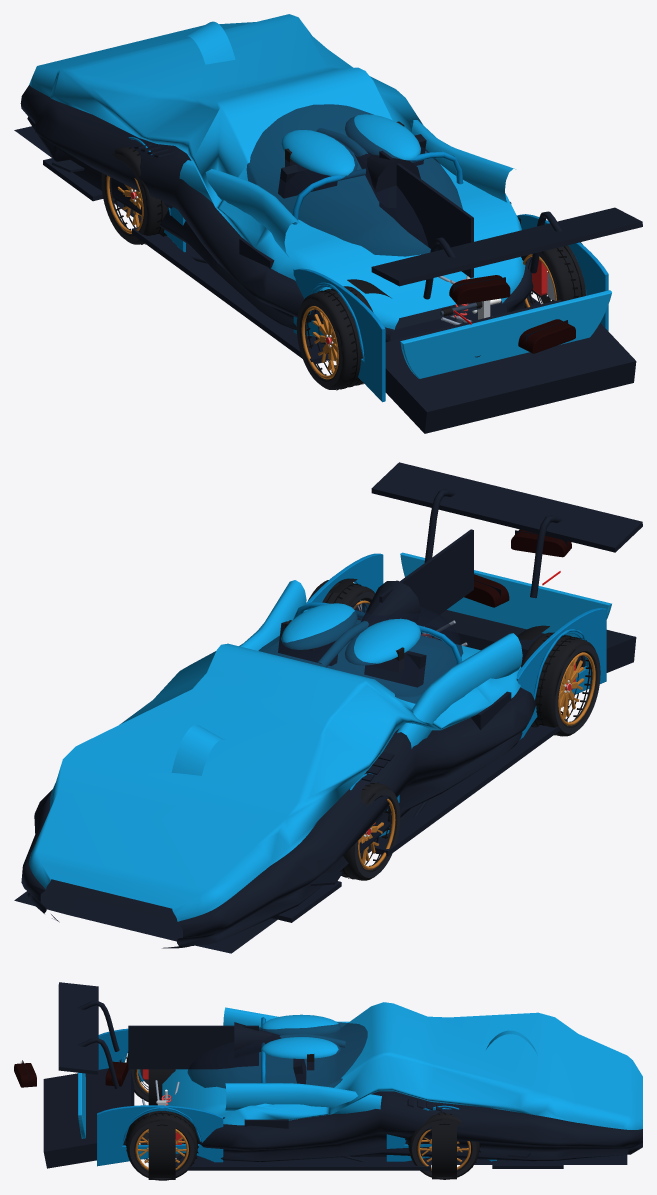
File: hypercar_apex_gt3.glb
The picture shows the model from 3 angles, top to bottom: view 1: azimuth 30°, elevation 25°; view 2: azimuth 150°, elevation 25°; view 3: azimuth 270°, elevation 25°; orthographic projection. The views are drawn at different scales.
Parts seen in each view (by area): view 1: Body_Upper_Shell_Paint, Body_Lower_Diffuser_Carbon, Rear_Venturi_Diffuser_Main, Teardrop_Cockpit_Canopy_Glass, Rear_Fascia_And_Venturi_Deck, Swan_Neck_Active_Rear_Wing, Tire_Seamless_Radial_Casing (×3), Double_Bubble_Roof_Assembly, Aero_Stabilizer_Shark_Fin, Rear_Fender_LH, Flank_LH, Side_Skirt_Aero_Blade_LH (+15 smaller); view 2: Body_Upper_Shell_Paint, Body_Lower_Diffuser_Carbon, Swan_Neck_Active_Rear_Wing, Teardrop_Cockpit_Canopy_Glass, Double_Bubble_Roof_Assembly, Rear_Fascia_And_Venturi_Deck, Flank_LH, Body_Flat_Floor_Carbon, Tire_Seamless_Radial_Casing (×2), Aero_Stabilizer_Shark_Fin, Rear_Venturi_Diffuser_Main, Side_Skirt_Aero_Blade_LH (+14 smaller); view 3: Body_Upper_Shell_Paint, Body_Lower_Diffuser_Carbon, Teardrop_Cockpit_Canopy_Glass, Rear_Venturi_Diffuser_Main, Rear_Fender_RH, Aero_Stabilizer_Shark_Fin, Swan_Neck_Active_Rear_Wing, Flank_RH, Double_Bubble_Roof_Assembly, Side_Skirt_Aero_Blade_RH, Tire_Seamless_Radial_Casing (×2), Front_Fender_RH (+15 smaller).
Boxes of the visible parts, x1,y1,x2,y2 form: Body_Upper_Shell_Paint: (29, 14, 525, 329); Body_Lower_Diffuser_Carbon: (20, 85, 533, 341); Rear_Venturi_Diffuser_Main: (385, 300, 636, 433); Teardrop_Cockpit_Canopy_Glass: (246, 104, 462, 256); Rear_Fascia_And_Venturi_Deck: (400, 290, 611, 378); Swan_Neck_Active_Rear_Wing: (371, 207, 642, 286); Tire_Seamless_Radial_Casing (×3): (104, 147, 585, 389); Double_Bubble_Roof_Assembly: (281, 114, 420, 176); Aero_Stabilizer_Shark_Fin: (379, 150, 473, 277); Rear_Fender_LH: (293, 268, 391, 402); Flank_LH: (179, 160, 299, 269); Side_Skirt_Aero_Blade_LH: (132, 227, 326, 363); Body_Upper_Shell_Paint: (29, 609, 521, 921); Body_Lower_Diffuser_Carbon: (21, 687, 536, 948); Swan_Neck_Active_Rear_Wing: (371, 462, 642, 552); Teardrop_Cockpit_Canopy_Glass: (258, 602, 462, 703); Double_Bubble_Roof_Assembly: (281, 603, 420, 667); Rear_Fascia_And_Venturi_Deck: (400, 552, 611, 637); Flank_LH: (397, 633, 522, 817); Body_Flat_Floor_Carbon: (14, 726, 535, 953); Tire_Seamless_Radial_Casing (×2): (339, 632, 597, 880); Aero_Stabilizer_Shark_Fin: (379, 529, 473, 626); Rear_Venturi_Diffuser_Main: (366, 610, 636, 672); Side_Skirt_Aero_Blade_LH: (374, 719, 567, 856); Body_Upper_Shell_Paint: (162, 1002, 642, 1129); Body_Lower_Diffuser_Carbon: (183, 1091, 642, 1162); Teardrop_Cockpit_Canopy_Glass: (187, 1022, 367, 1088); Rear_Venturi_Diffuser_Main: (43, 1068, 134, 1168); Rear_Fender_RH: (97, 1105, 223, 1179); Aero_Stabilizer_Shark_Fin: (128, 1025, 258, 1069); Swan_Neck_Active_Rear_Wing: (58, 982, 98, 1074); Flank_RH: (223, 1083, 381, 1161); Double_Bubble_Roof_Assembly: (261, 1014, 345, 1058); Side_Skirt_Aero_Blade_RH: (175, 1161, 431, 1170); Tire_Seamless_Radial_Casing (×2): (126, 1112, 479, 1180); Front_Fender_RH: (386, 1105, 496, 1179).
Bounding box in the file's own units: 2.25 × 1.3 × 6.02.
